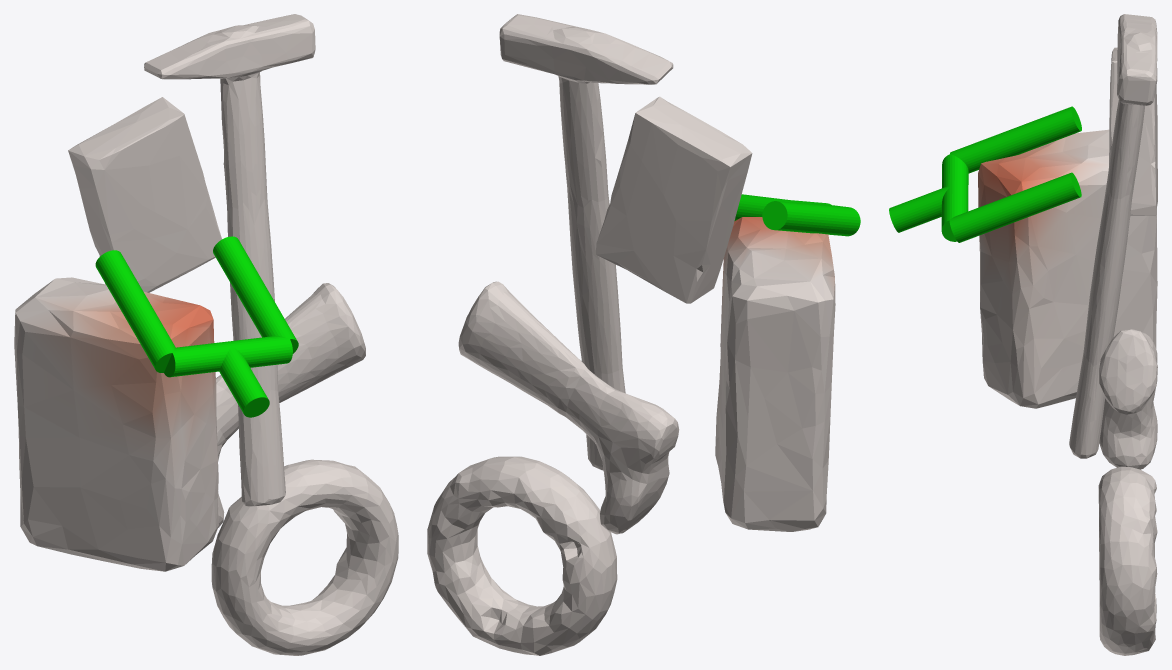
The model's file is round_000_trial_001.obj.
3 views of the same model, side by side, from view 1: azimuth 30°, elevation 25°; view 2: azimuth 150°, elevation 25°; view 3: azimuth 270°, elevation 25° (orthographic). The views are drawn at different scales.
Visible parts, largest first — view 1: geometry_0, geometry_1; view 2: geometry_0, geometry_1; view 3: geometry_0, geometry_1.
Boxes of the visible parts, x1,y1,x2,y2 form: geometry_0: [14, 14, 398, 655]; geometry_1: [95, 236, 298, 417]; geometry_0: [427, 14, 835, 655]; geometry_1: [734, 194, 860, 236]; geometry_0: [978, 14, 1157, 655]; geometry_1: [889, 106, 1081, 242].
Size of the model in its own units: 0.1542 by 0.2415 by 0.1012.
